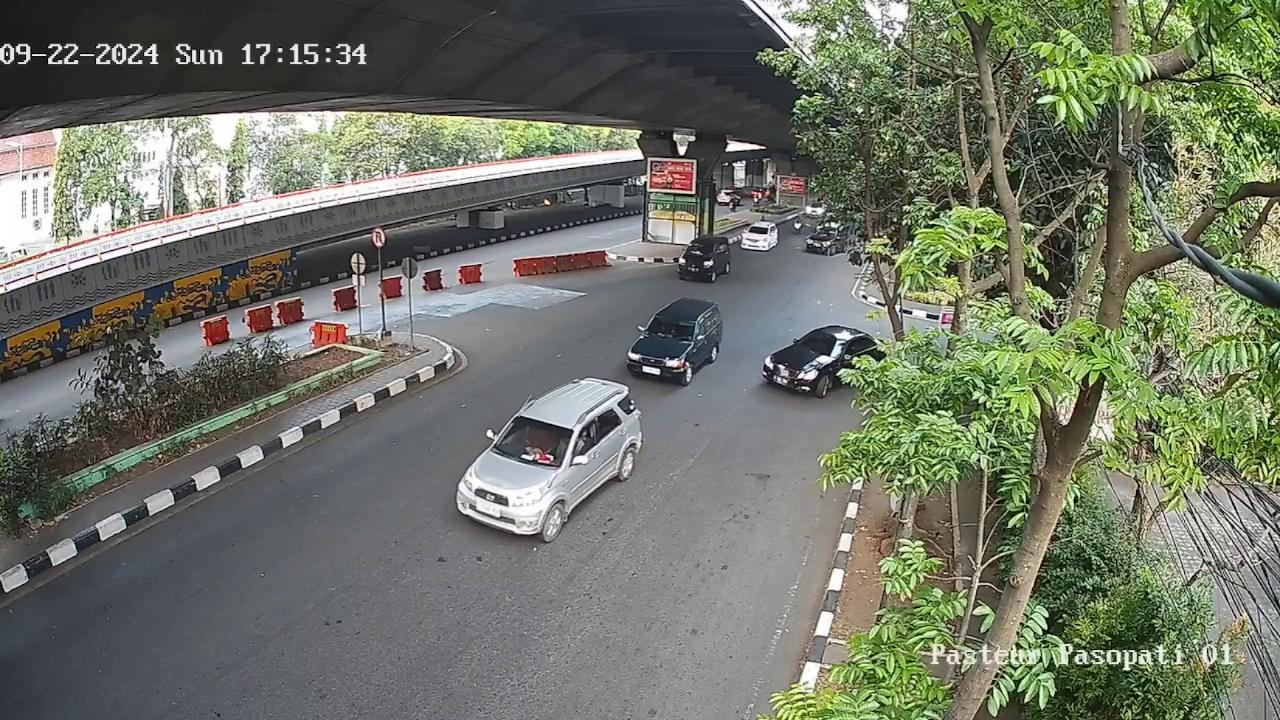tidak-pakai: (522, 423, 555, 457)
windshield: (493, 415, 578, 467), (645, 317, 695, 346)
